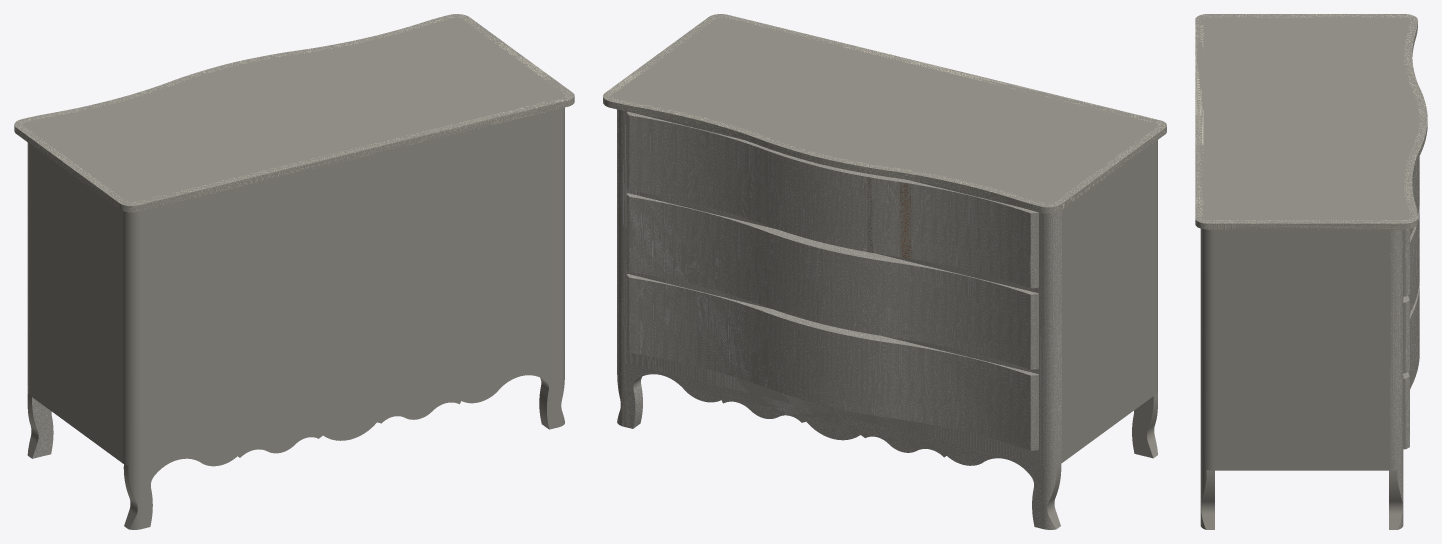
3 views of the same model, side by side, from view 1: azimuth 30°, elevation 25°; view 2: azimuth 150°, elevation 25°; view 3: azimuth 270°, elevation 25° (orthographic). The views are drawn at different scales.
Visible parts, largest first — view 1: mesh11_mesh11-geometry, mesh8_mesh8-geometry, mesh26_mesh26-geometry, mesh24_mesh24-geometry, mesh17_mesh17-geometry; view 2: mesh26_mesh26-geometry, mesh14_mesh14-geometry, mesh21_mesh21-geometry, mesh1_mesh1-geometry, mesh24_mesh24-geometry, mesh17_mesh17-geometry, mesh4_mesh4-geometry, mesh11_mesh11-geometry; view 3: mesh26_mesh26-geometry, mesh25_mesh25-geometry, mesh8_mesh8-geometry, mesh4_mesh4-geometry, mesh21_mesh21-geometry, mesh14_mesh14-geometry, mesh1_mesh1-geometry.
Part boxes in pixels (box(x1,y1,x2,y2)): mesh11_mesh11-geometry: box(123, 160, 349, 529); mesh8_mesh8-geometry: box(350, 107, 564, 439); mesh26_mesh26-geometry: box(14, 14, 574, 212); mesh24_mesh24-geometry: box(29, 144, 122, 463); mesh17_mesh17-geometry: box(27, 142, 53, 458); mesh26_mesh26-geometry: box(603, 14, 1166, 213); mesh14_mesh14-geometry: box(626, 193, 1038, 369); mesh21_mesh21-geometry: box(626, 274, 1038, 450); mesh1_mesh1-geometry: box(626, 111, 1038, 288); mesh24_mesh24-geometry: box(1062, 141, 1156, 462); mesh17_mesh17-geometry: box(833, 180, 1061, 529); mesh4_mesh4-geometry: box(617, 109, 833, 438); mesh11_mesh11-geometry: box(1132, 140, 1157, 458); mesh26_mesh26-geometry: box(1195, 14, 1427, 229); mesh25_mesh25-geometry: box(1213, 229, 1390, 470); mesh8_mesh8-geometry: box(1200, 228, 1214, 529); mesh4_mesh4-geometry: box(1389, 229, 1403, 529); mesh21_mesh21-geometry: box(1403, 283, 1419, 449); mesh14_mesh14-geometry: box(1403, 206, 1419, 373); mesh1_mesh1-geometry: box(1403, 156, 1419, 296).
Size of the model in its own units: 0.7679 by 0.53 by 0.3599.
